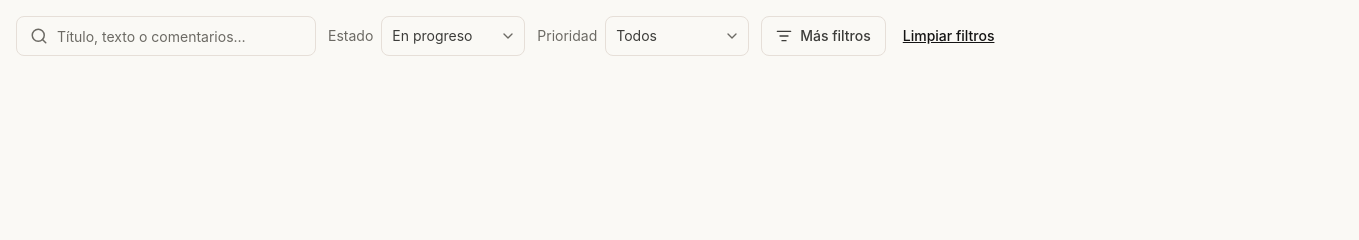
TicketsFilters › selectores › muestra el filtro que dice la URL
Click the button "Más filtros" at (823, 36), box [761, 16, 886, 56]
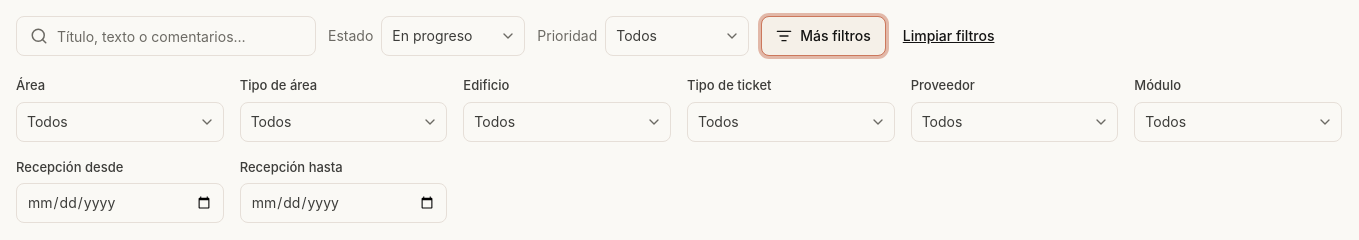
Check: the dropdown named "Estado" reads "En progreso", box [381, 16, 525, 56]
Check: the dropdown named "Área" reads "Todos", box [16, 102, 224, 142]
